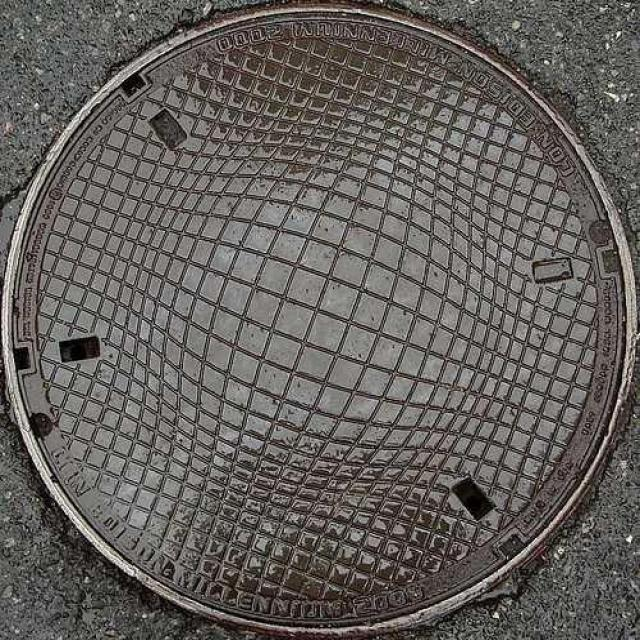manhole: (2, 3, 635, 634)
